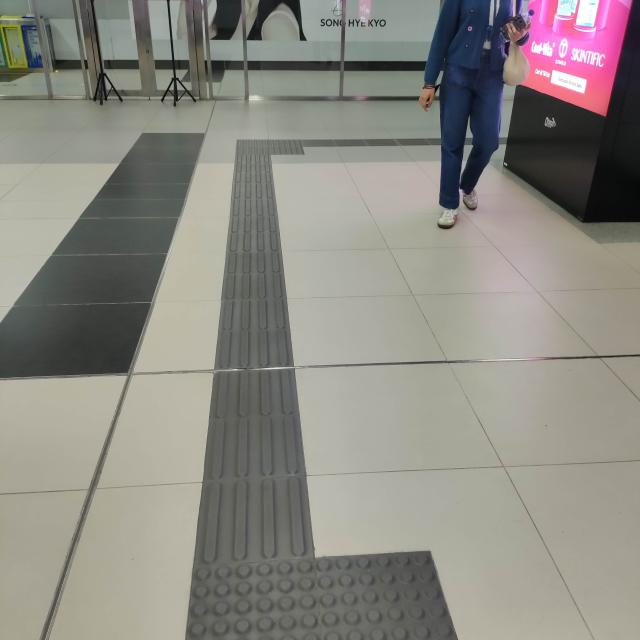kanan: (223, 124, 350, 170)
